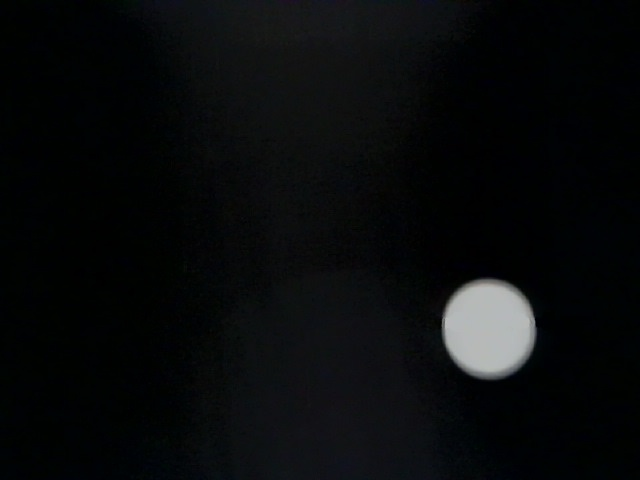YHLJ: (134, 57, 368, 181)
